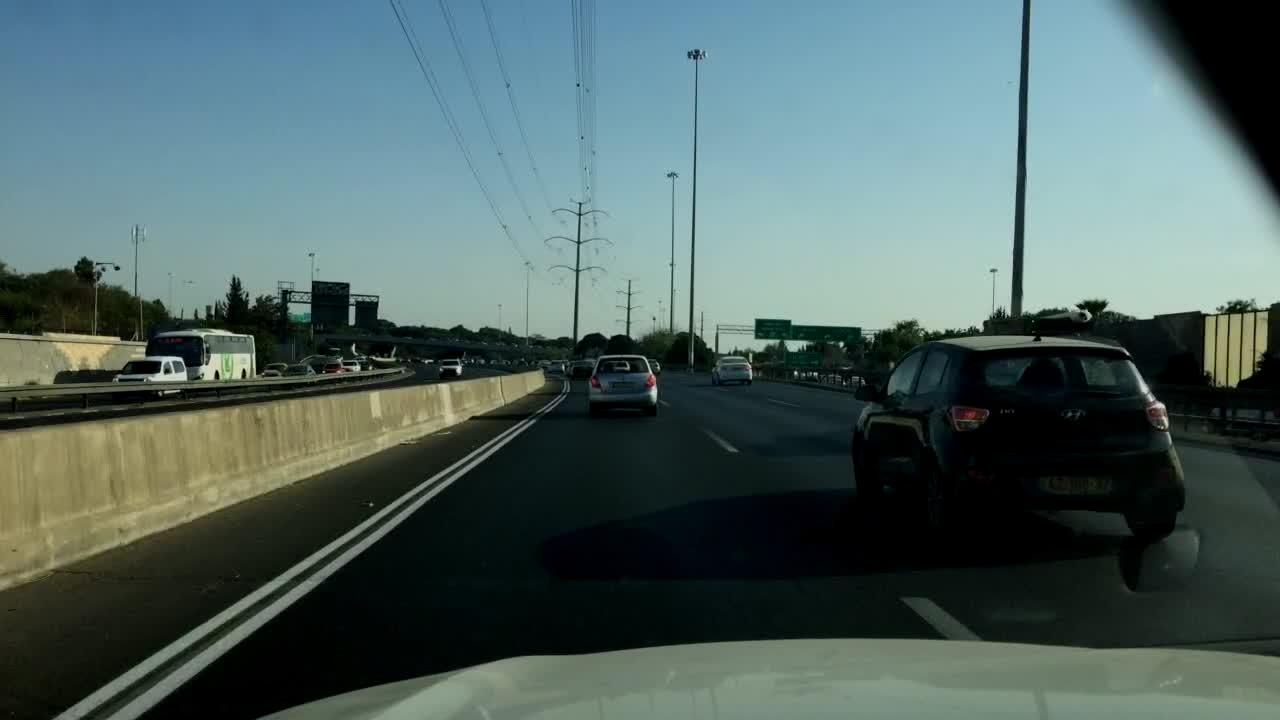Hyundai: (1055, 404, 1090, 427)
